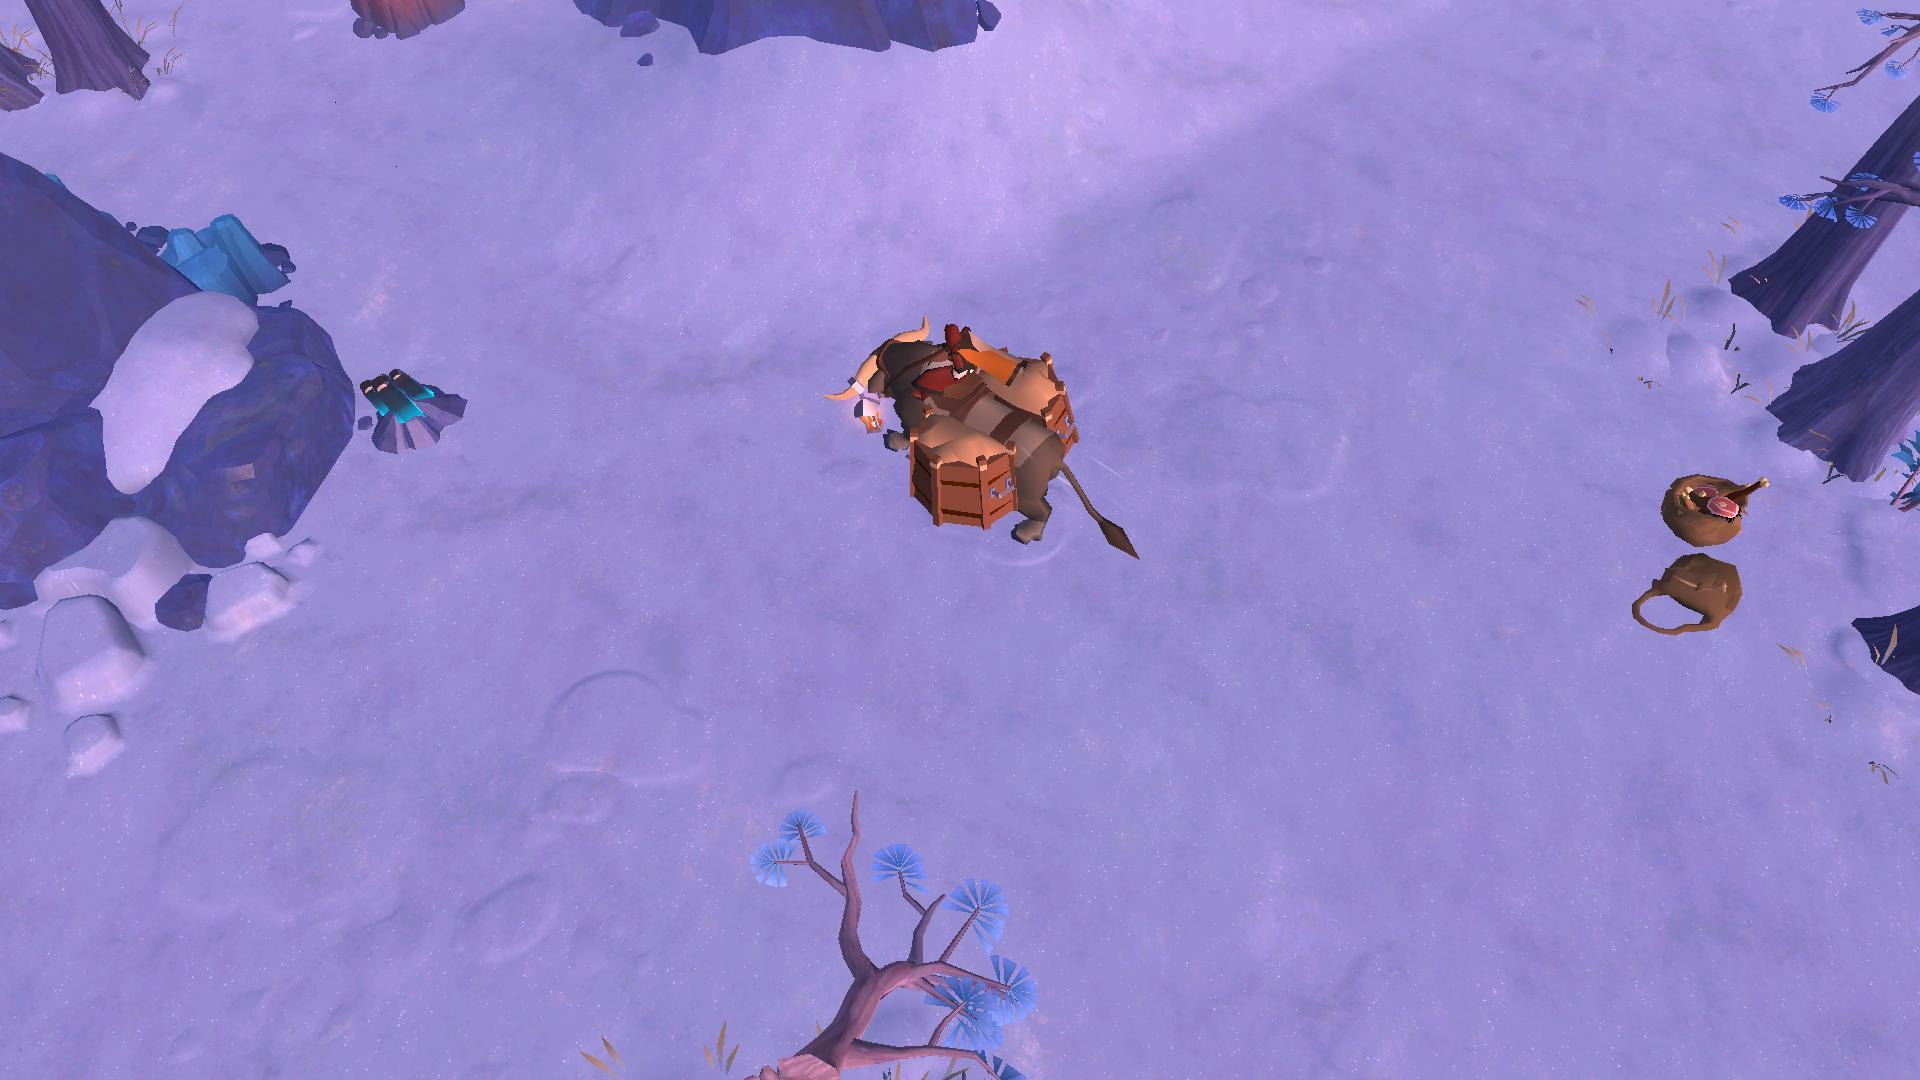ore_t4: (353, 360, 433, 430)
rock_t4: (153, 203, 281, 313)
